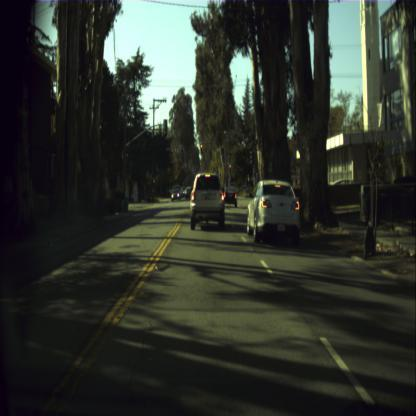Red: (200, 144, 202, 154), (230, 163, 231, 173)
